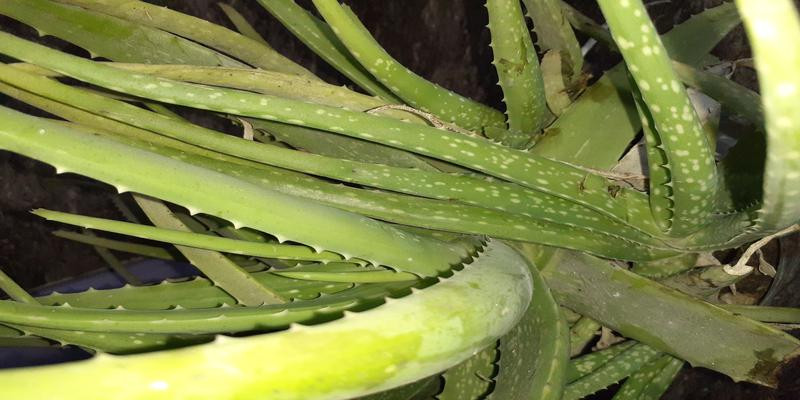Aloevera: (17, 23, 723, 354)
